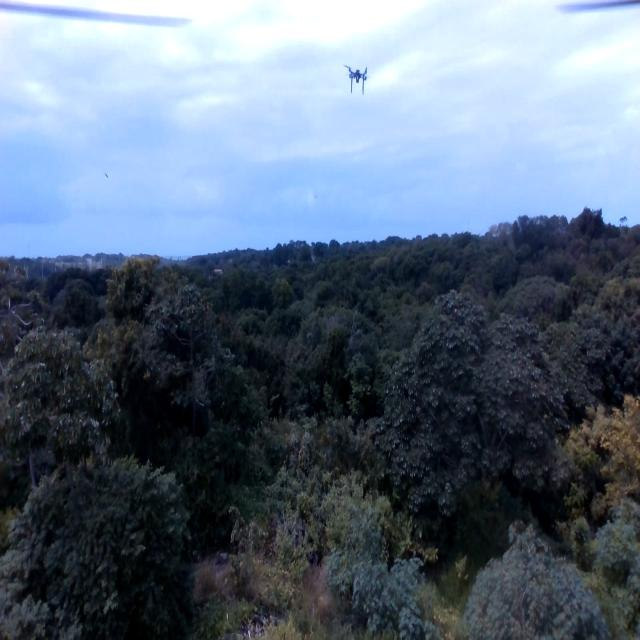-uav-: (336, 50, 376, 111)
